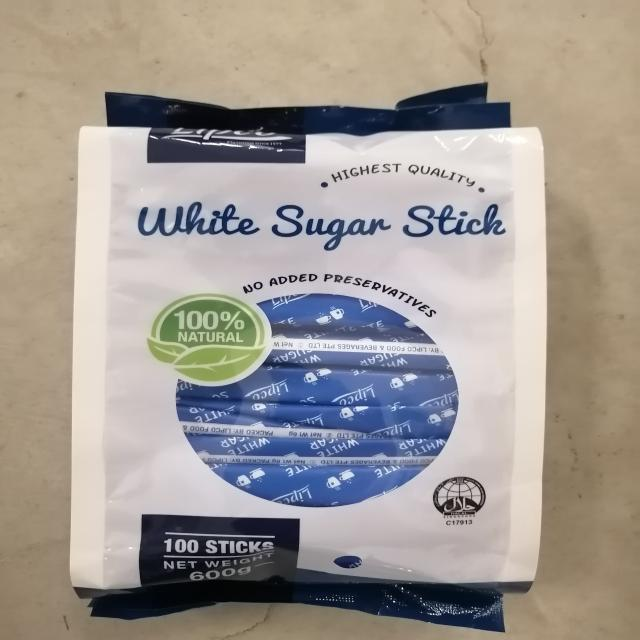object_name: (88, 131, 532, 586)
